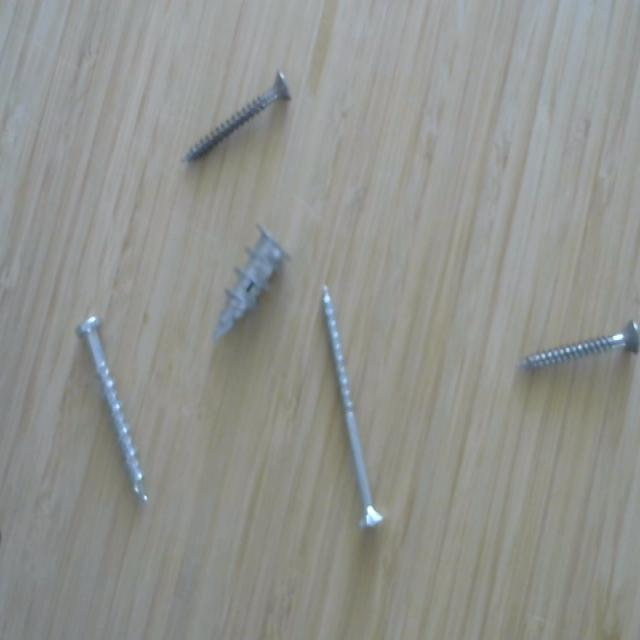Black screw: (171, 64, 300, 175), (515, 318, 639, 381)
Long screw: (311, 270, 392, 541)
Medium screw: (69, 304, 161, 515)
Short screw: (202, 216, 297, 350)
